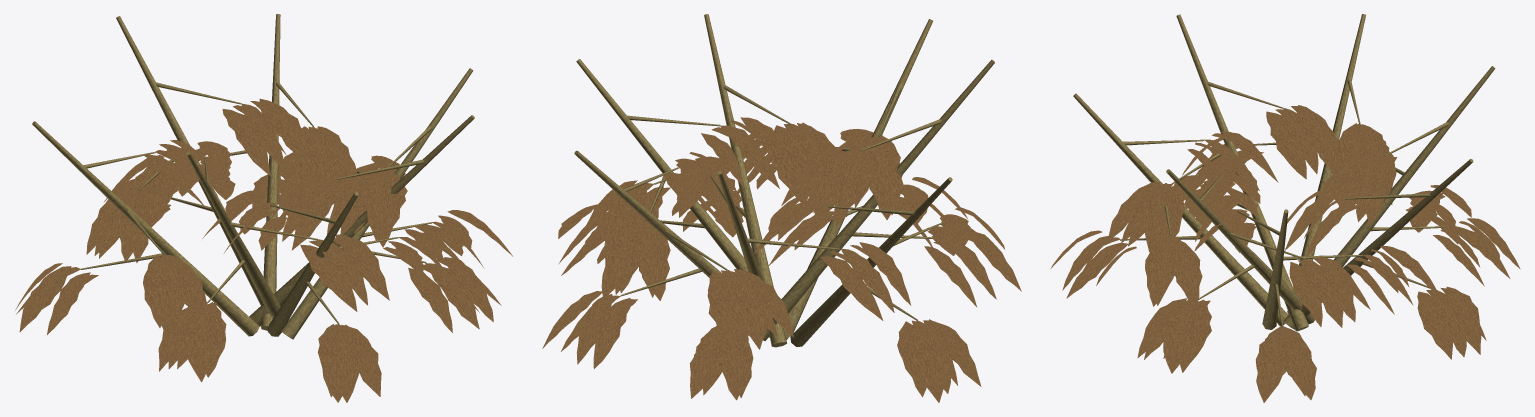
File: PZ_Crop_Potato_Dead.glb
The picture shows the model from 3 angles, left to right: view 1: azimuth 30°, elevation 25°; view 2: azimuth 150°, elevation 25°; view 3: azimuth 270°, elevation 25°; orthographic projection. The views are drawn at different scales.
Parts seen in each view (by area): view 1: PZ_Crop_Potato_Dead_03_Broad_Leaflets, PZ_Crop_Potato_Dead_01_Stem_Shoots, PZ_Crop_Potato_Dead_02_Compound_Petioles; view 2: PZ_Crop_Potato_Dead_03_Broad_Leaflets, PZ_Crop_Potato_Dead_01_Stem_Shoots, PZ_Crop_Potato_Dead_02_Compound_Petioles; view 3: PZ_Crop_Potato_Dead_03_Broad_Leaflets, PZ_Crop_Potato_Dead_01_Stem_Shoots, PZ_Crop_Potato_Dead_02_Compound_Petioles.
Part boxes in pixels (x1,y1,x2,y2): PZ_Crop_Potato_Dead_03_Broad_Leaflets: [15, 98, 512, 402]; PZ_Crop_Potato_Dead_01_Stem_Shoots: [32, 14, 474, 339]; PZ_Crop_Potato_Dead_02_Compound_Petioles: [81, 81, 432, 324]; PZ_Crop_Potato_Dead_03_Broad_Leaflets: [542, 117, 1021, 402]; PZ_Crop_Potato_Dead_01_Stem_Shoots: [574, 14, 994, 347]; PZ_Crop_Potato_Dead_02_Compound_Petioles: [620, 85, 943, 320]; PZ_Crop_Potato_Dead_03_Broad_Leaflets: [1050, 105, 1520, 402]; PZ_Crop_Potato_Dead_01_Stem_Shoots: [1073, 14, 1495, 331]; PZ_Crop_Potato_Dead_02_Compound_Petioles: [1120, 79, 1448, 327].
Size of the model in its own units: 0.6711 by 0.3698 by 0.6404.
Materials: 2 (2 with a texture image).
